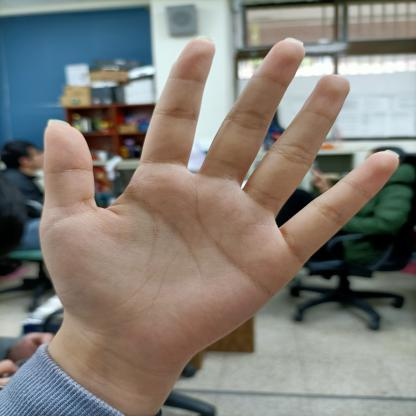bare_hand: (26, 35, 406, 368)
